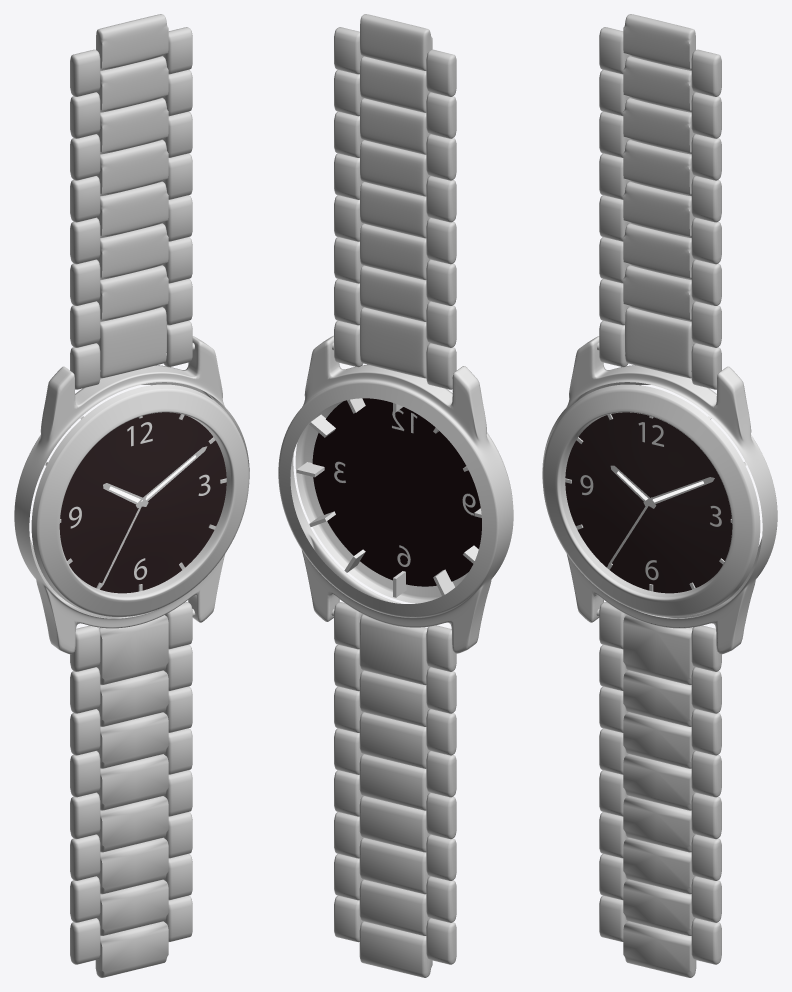
Rendered from watches-01.glb.
3 renders of one model, left to right at view 1: azimuth 30°, elevation 25°; view 2: azimuth 150°, elevation 25°; view 3: azimuth 330°, elevation 25°, orthographic.
Parts seen in each view (by area): view 1: Face, Housing, Housing.002, Cube.002, Cube.018, Cube.016, Cube.032, Cube.026, Cube.024, Cube.030, Cube.020, Cube.022 (+23 smaller); view 2: Face, Housing.002, Housing, Cube.002, Cube.018, Cube.016, Cube.032, Cube.026, Cube.028, Cube.022, Cube.024, Cube.030 (+24 smaller); view 3: Face, Housing, Housing.002, Cube.002, Cube.018, Cube.016, Cube.032, Cube.024, Cube.026, Cube.030, Cube.020, Cube.022 (+23 smaller).
Part boxes in pixels (<box>): Face: <box>59,412,226,593</box>; Housing: <box>31,384,249,616</box>; Housing.002: <box>14,336,249,654</box>; Cube.002: <box>97,307,166,378</box>; Cube.018: <box>97,615,168,685</box>; Cube.016: <box>96,14,168,70</box>; Cube.032: <box>95,921,168,977</box>; Cube.026: <box>97,796,168,852</box>; Cube.024: <box>97,754,168,810</box>; Cube.030: <box>97,879,168,935</box>; Cube.020: <box>97,670,168,726</box>; Cube.022: <box>97,712,168,768</box>; Face: <box>312,398,481,586</box>; Housing.002: <box>278,335,513,653</box>; Housing: <box>295,401,512,603</box>; Cube.002: <box>360,307,429,378</box>; Cube.018: <box>359,614,429,685</box>; Cube.016: <box>360,14,432,70</box>; Cube.032: <box>359,921,432,977</box>; Cube.026: <box>359,796,429,852</box>; Cube.028: <box>359,837,429,894</box>; Cube.022: <box>359,712,429,768</box>; Cube.024: <box>359,754,429,810</box>; Cube.030: <box>359,879,429,935</box>; Face: <box>565,412,732,593</box>; Housing: <box>542,384,760,616</box>; Housing.002: <box>542,336,777,654</box>; Cube.002: <box>625,307,694,378</box>; Cube.018: <box>623,615,694,685</box>; Cube.016: <box>623,14,695,70</box>; Cube.032: <box>623,921,696,977</box>; Cube.024: <box>623,754,694,810</box>; Cube.026: <box>623,796,694,852</box>; Cube.030: <box>623,879,694,935</box>; Cube.020: <box>623,670,694,726</box>; Cube.022: <box>623,712,694,768</box>.
Bounding box in the file's own units: 2.42 × 9.97 × 0.6109.
Materials: 5 (1 with a texture image).
